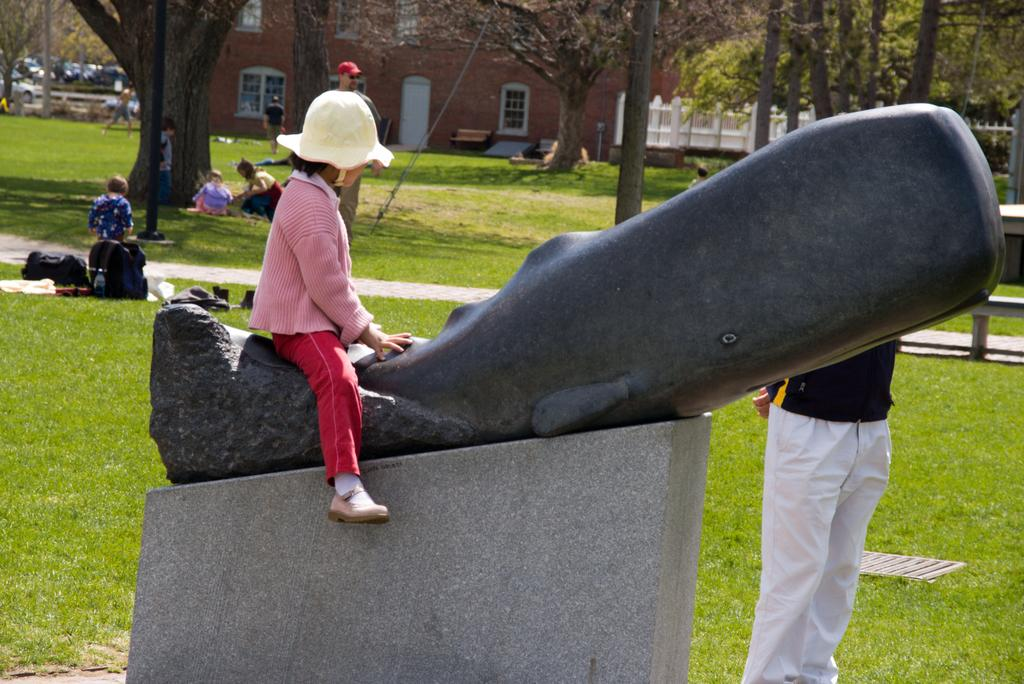Hat: (272, 88, 397, 189), (336, 56, 360, 76)
